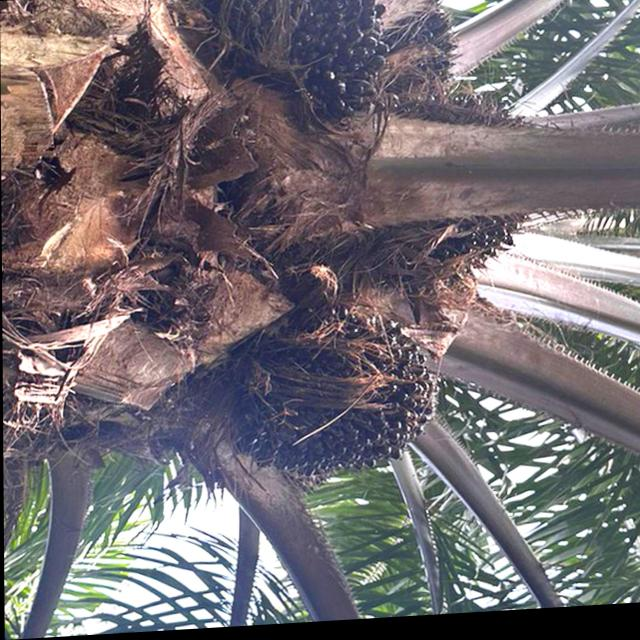almost: (233, 306, 446, 489), (209, 0, 401, 131)
